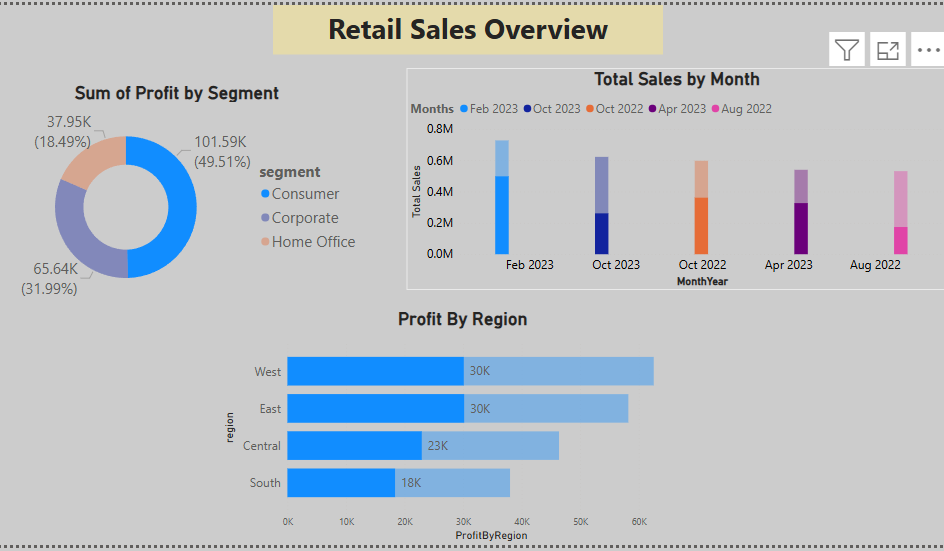

This screenshot's page, from the dashboard's own definition file:
{"tool":"powerbi","page":{"name":"Page 1","canvas":[1280,720],"ordinal":1},"visuals":[{"type":"textbox","box":[380.2,0,519.7,66.1],"z":0},{"type":"donutChart","title":"Sum of Profit by Segment","fields":{"Category":["df_orders (2).segment"],"Y":["Sum(df_orders (2).profit)"]},"box":[0,101.5,509.5,278.8],"z":1000},{"type":"lineClusteredColumnComboChart","title":"Total Sales by Month","fields":{"Series":["df_orders (2).MonthYear"],"Y":["df_orders (2).TotalSales"],"Category":["df_orders (2).MonthYear"]},"box":[561.2,83.1,718.2,310.2],"z":2000},{"type":"clusteredBarChart","title":"Profit By Region","fields":{"Category":["df_orders (2).region"],"Y":["df_orders (2).ProfitByRegion"]},"box":[289.8,411.7,646.2,284.3],"z":3000}]}

Visuals, with their boxes on the page's 1280x720 design canvas (x1, y1, x2, y2). These are canvas units, not pixel positions in the 944x551 screenshot, which may show the page scaled, cropped or inside an application window:
textbox: detection(380, 0, 900, 66)
"Sum of Profit by Segment" donutChart: detection(0, 102, 510, 380)
"Total Sales by Month" lineClusteredColumnComboChart: detection(561, 83, 1279, 393)
"Profit By Region" clusteredBarChart: detection(290, 412, 936, 696)
